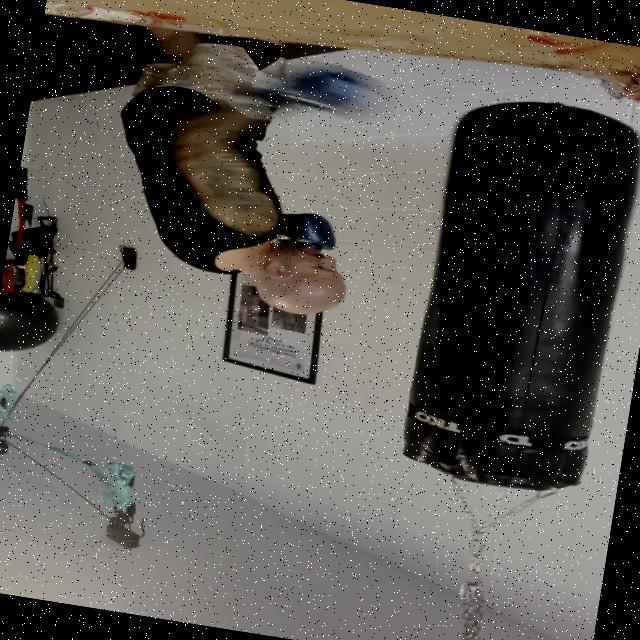bag: (379, 82, 640, 501)
uppercut: (88, 30, 430, 332)
